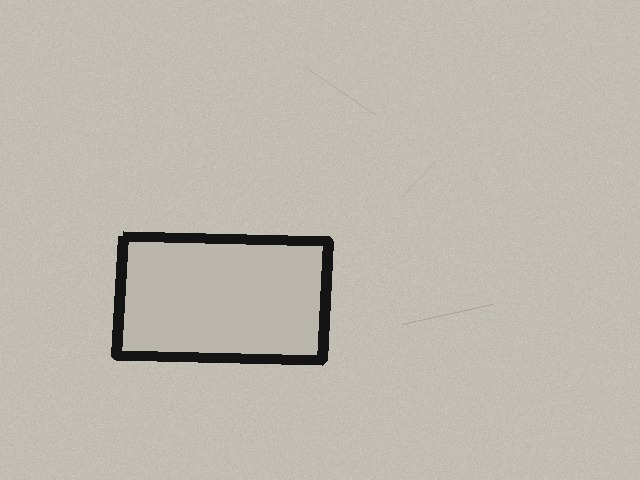parking_area: (116, 236, 328, 360)
